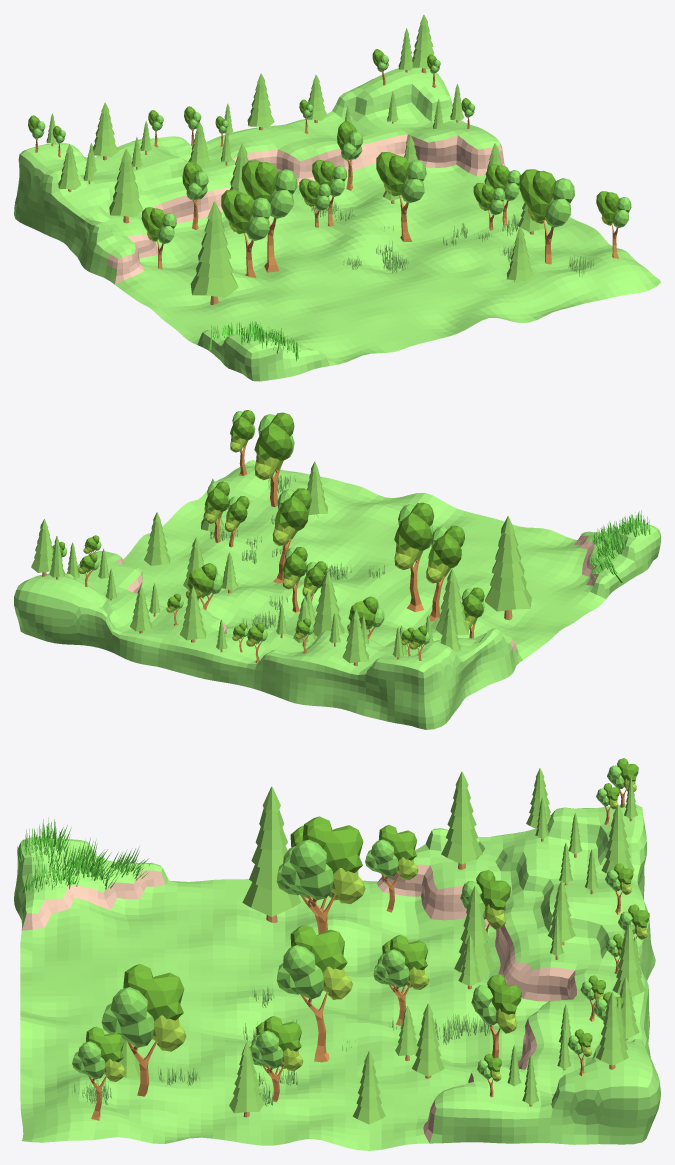
File: Land.fbx
3 views of the same model, one above another, from view 1: azimuth 30°, elevation 25°; view 2: azimuth 150°, elevation 25°; view 3: azimuth 270°, elevation 25° (orthographic). The views are drawn at different scales.
Visible parts, largest first — view 1: Tanah, Icosphere.016, Cylinder.054, Icosphere.014, Icosphere.017, Icosphere.015, Cylinder, Icosphere.021, Icosphere.001, Icosphere.005, Icosphere.018, Icosphere.006 (+10 smaller); view 2: Tanah, Cylinder.054, Icosphere.014, Icosphere.016, Icosphere.015, Icosphere.017, Cylinder.005, Cylinder, Icosphere.006, Icosphere.021, Icosphere.005, Icosphere.018 (+11 smaller); view 3: Tanah, Icosphere.016, Icosphere.014, Icosphere.017, Cylinder.054, Icosphere.021, Icosphere.005, Icosphere.001, Icosphere.018, Icosphere.006, Cylinder, Icosphere.002 (+17 smaller).
Part boxes in pixels (x1=…): Tanah: x1=14, y1=67, x2=660, y2=381; Icosphere.016: x1=519, y1=169, x2=574, y2=264; Cylinder.054: x1=190, y1=201, x2=238, y2=304; Icosphere.014: x1=241, y1=160, x2=297, y2=272; Icosphere.017: x1=376, y1=152, x2=426, y2=241; Icosphere.015: x1=221, y1=189, x2=271, y2=277; Cylinder: x1=109, y1=148, x2=142, y2=223; Icosphere.021: x1=596, y1=191, x2=631, y2=258; Icosphere.001: x1=141, y1=207, x2=176, y2=269; Icosphere.005: x1=312, y1=160, x2=347, y2=226; Icosphere.018: x1=486, y1=164, x2=520, y2=226; Icosphere.006: x1=337, y1=121, x2=362, y2=190; Tanah: x1=14, y1=460, x2=660, y2=729; Cylinder.054: x1=484, y1=516, x2=531, y2=620; Icosphere.014: x1=394, y1=502, x2=434, y2=611; Icosphere.016: x1=254, y1=412, x2=294, y2=506; Icosphere.015: x1=426, y1=525, x2=464, y2=621; Icosphere.017: x1=272, y1=488, x2=311, y2=583; Cylinder.005: x1=313, y1=571, x2=344, y2=636; Cylinder: x1=435, y1=568, x2=469, y2=635; Icosphere.006: x1=186, y1=563, x2=222, y2=609; Icosphere.021: x1=230, y1=410, x2=255, y2=475; Icosphere.005: x1=282, y1=546, x2=307, y2=612; Icosphere.018: x1=204, y1=481, x2=229, y2=542; Tanah: x1=14, y1=804, x2=660, y2=1150; Icosphere.016: x1=101, y1=964, x2=186, y2=1096; Icosphere.014: x1=280, y1=816, x2=365, y2=933; Icosphere.017: x1=276, y1=925, x2=352, y2=1062; Cylinder.054: x1=242, y1=786, x2=300, y2=922; Icosphere.021: x1=72, y1=1026, x2=125, y2=1120; Icosphere.005: x1=376, y1=934, x2=429, y2=1025; Icosphere.001: x1=365, y1=825, x2=418, y2=912; Icosphere.018: x1=250, y1=1016, x2=303, y2=1102; Icosphere.006: x1=471, y1=974, x2=521, y2=1057; Cylinder: x1=441, y1=771, x2=482, y2=869; Icosphere.002: x1=460, y1=870, x2=510, y2=942.
Size of the model in its own units: 20536 by 6185 by 20647.
